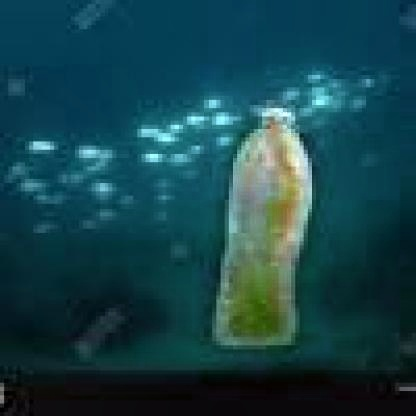pbottle: (192, 87, 324, 350)
